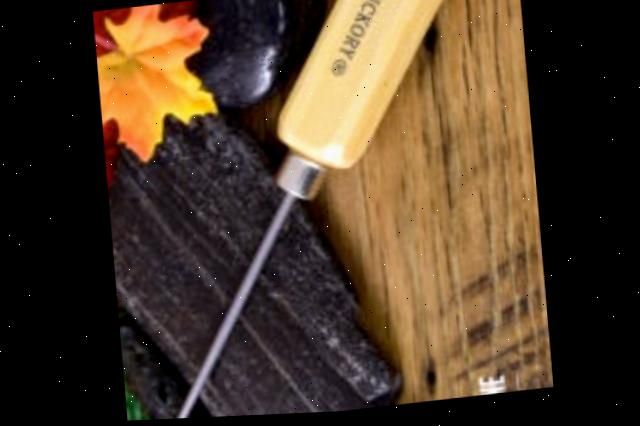ice pick: (92, 0, 529, 423)
